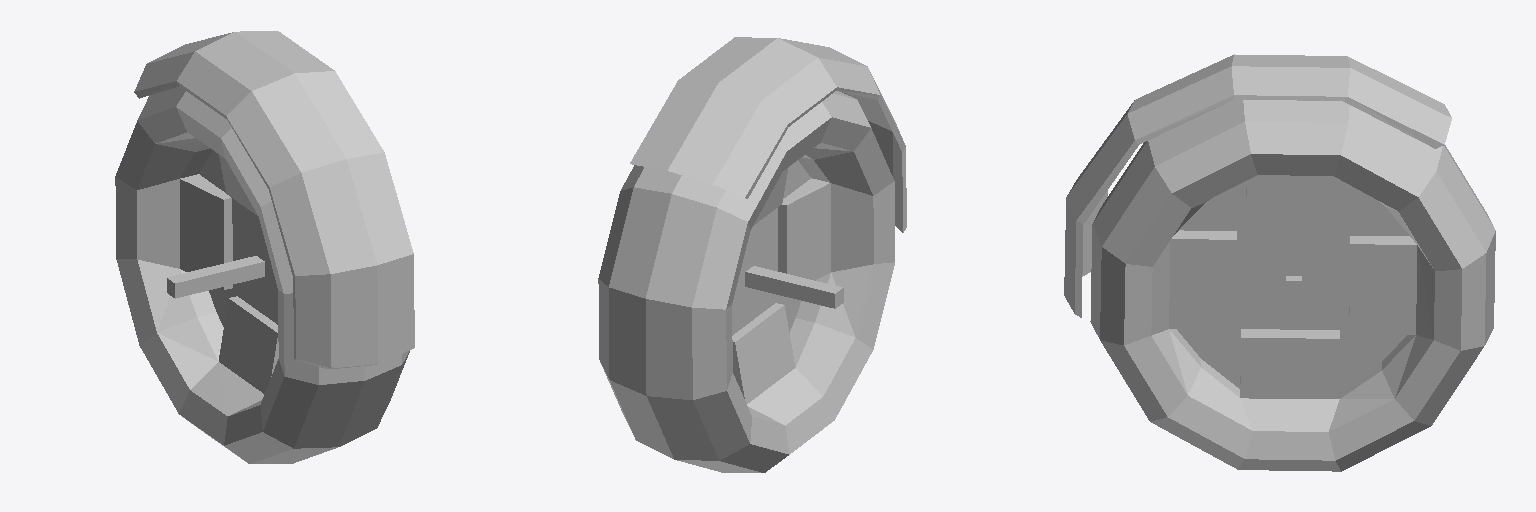
Rendered from buggy_wheel_right.obj.
3 renders of one model, left to right at view 1: azimuth 30°, elevation 25°; view 2: azimuth 150°, elevation 25°; view 3: azimuth 270°, elevation 25°, orthographic.
Parts seen in each view (by area): view 1: WheelRight_Wheel, WheelRightCover_Cover; view 2: WheelRight_Wheel, WheelRightCover_Cover; view 3: WheelRight_Wheel, WheelRightCover_Cover.
Boxes of the visible parts, box(x1,y1,x2,y2) form: WheelRight_Wheel: box(115, 86, 409, 463); WheelRightCover_Cover: box(134, 31, 414, 368); WheelRight_Wheel: box(598, 91, 894, 472); WheelRightCover_Cover: box(630, 37, 906, 232); WheelRight_Wheel: box(1090, 100, 1495, 471); WheelRightCover_Cover: box(1064, 54, 1451, 317).
Size of the model in its own units: 1.08 by 2.6 by 2.58.